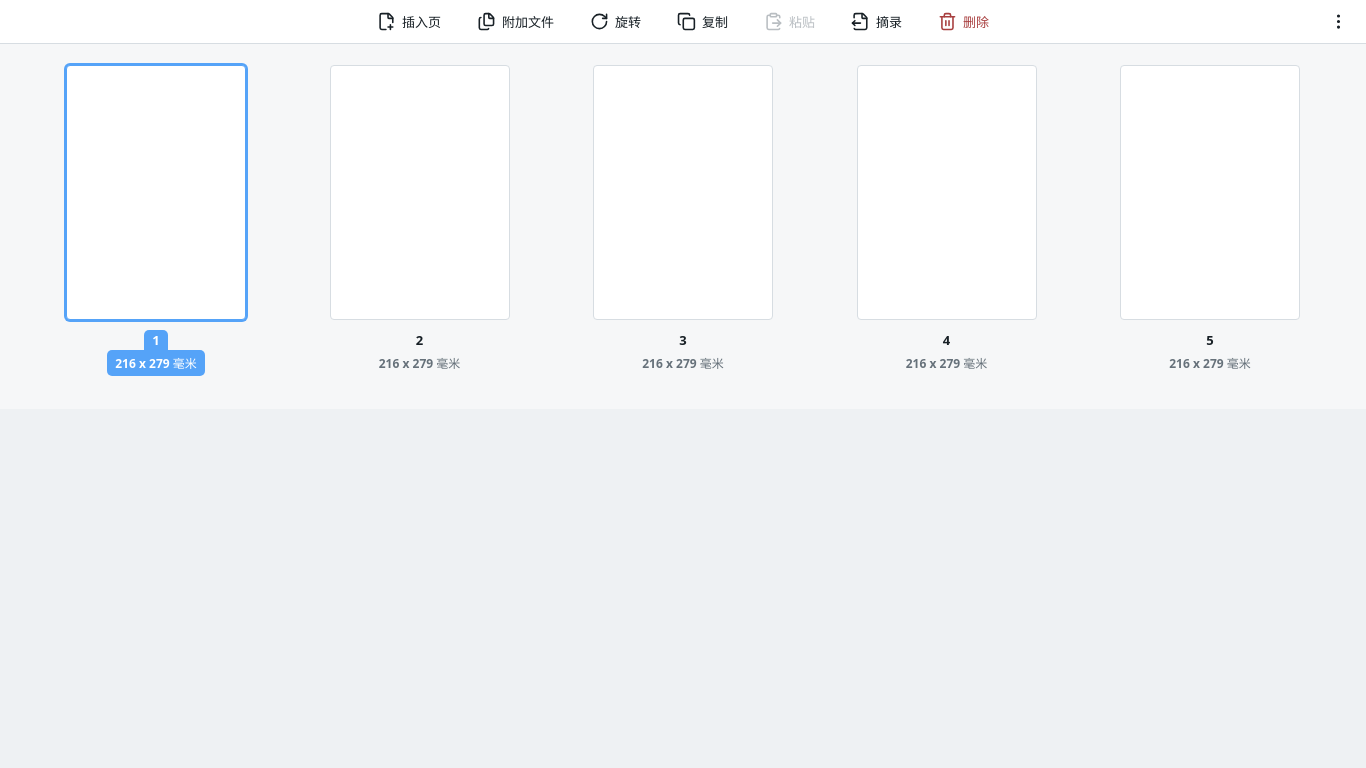
Test: PageOrganizerWorkspace ISS-NEW-A 阶段 2：插入 / 合并 / 提取 UI 入口 › 合并多份 PDF 选 0 文件时显示错误
Click the heading named "更多页面工具" at (1338, 22), box [1328, 12, 1348, 31]
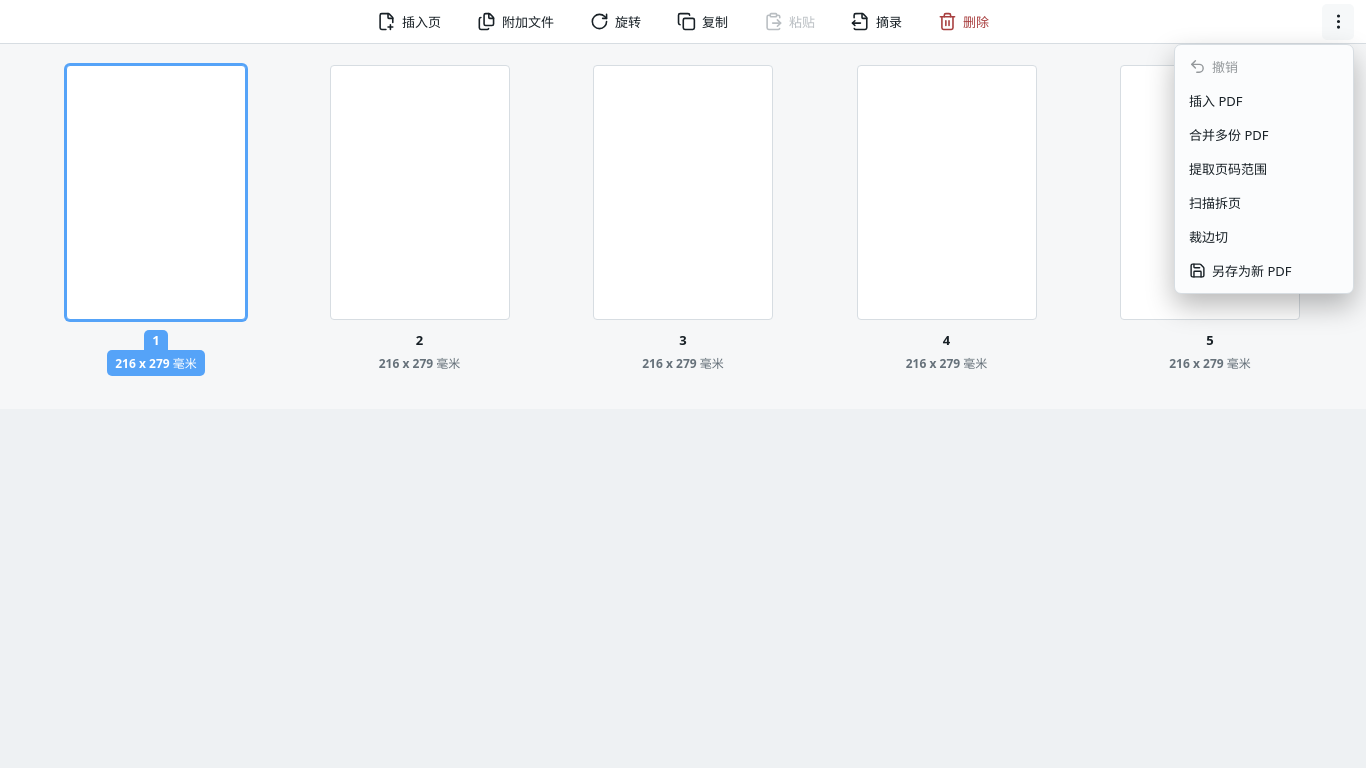
Click the menu item with test id "page-organizer-merge-pdfs" at (1264, 134), box [1181, 118, 1347, 150]
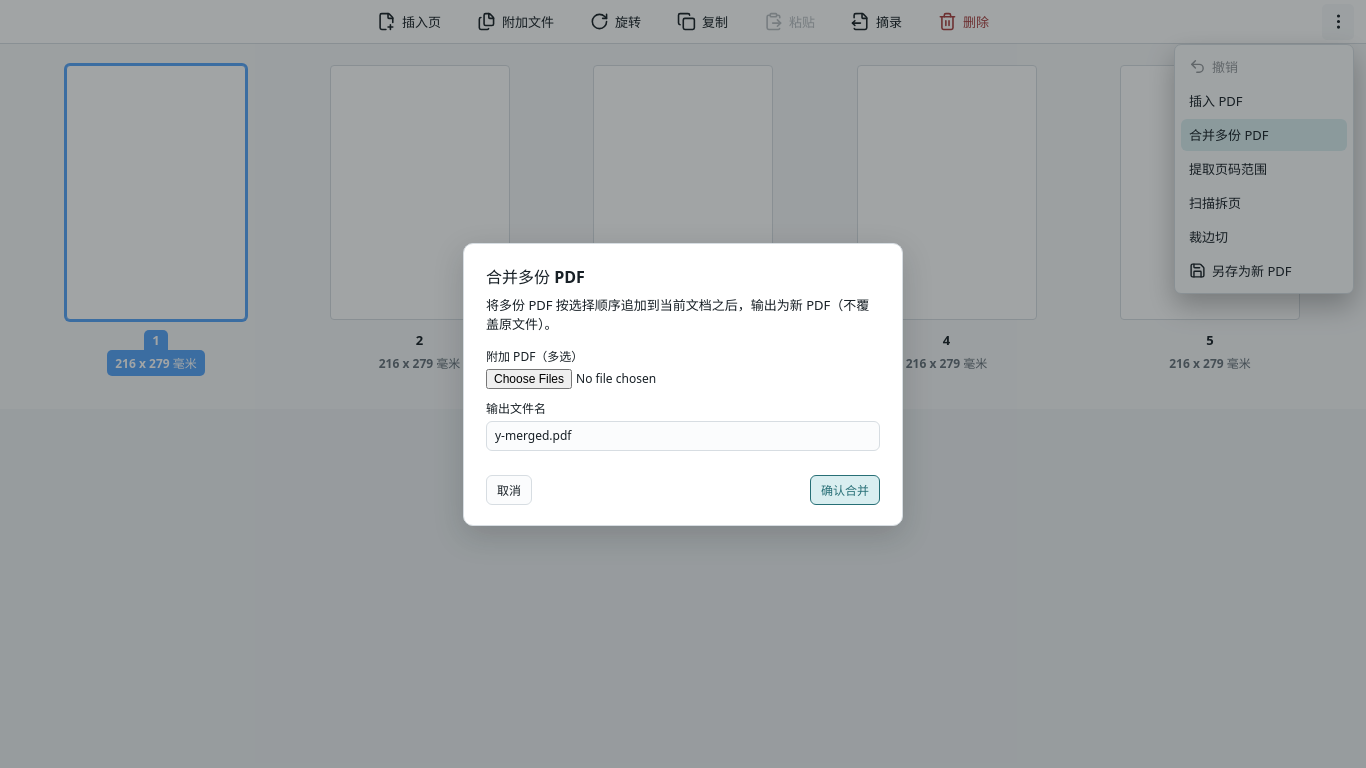
Click the button with test id "merge-pdfs-confirm" at (845, 490), box [810, 474, 880, 504]
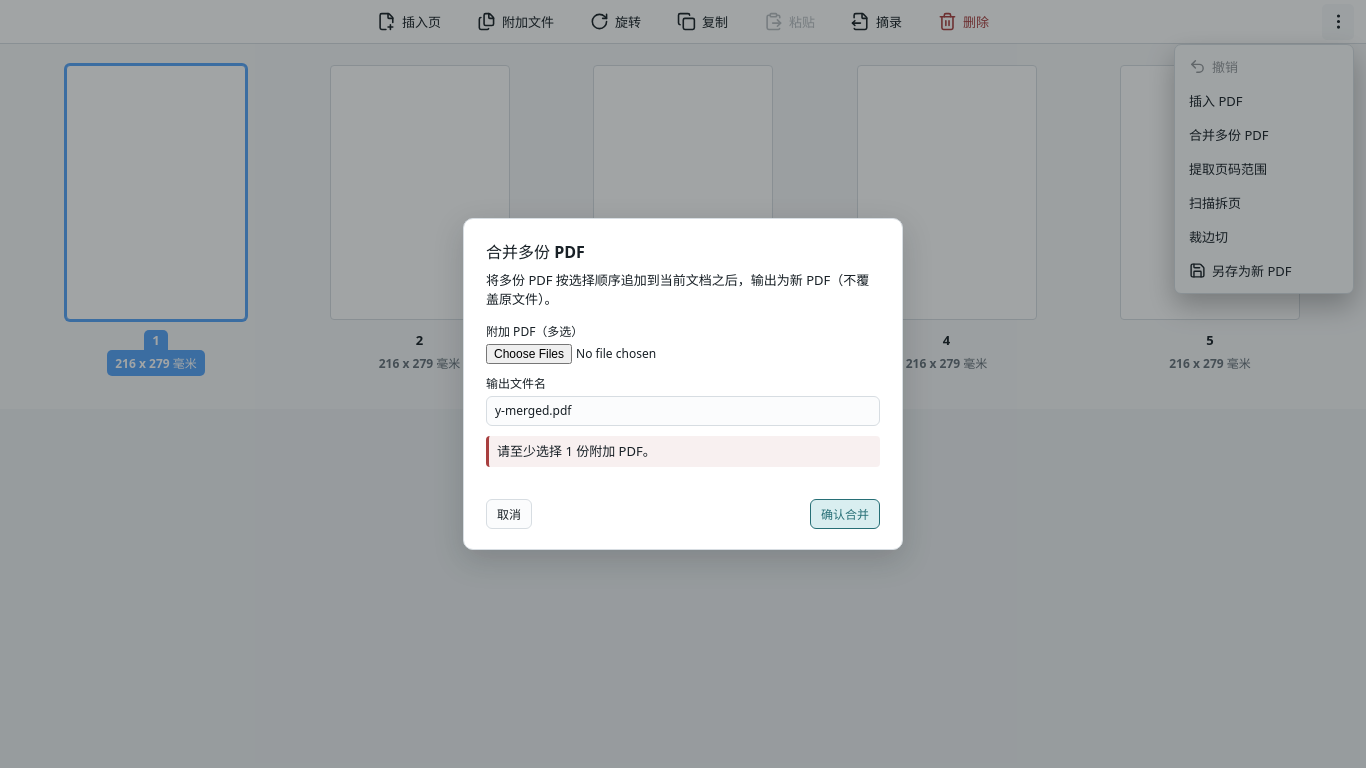
Result: the message with test id "merge-pdfs-error" shows "至少选择 1 份" at [497, 442, 656, 460]
